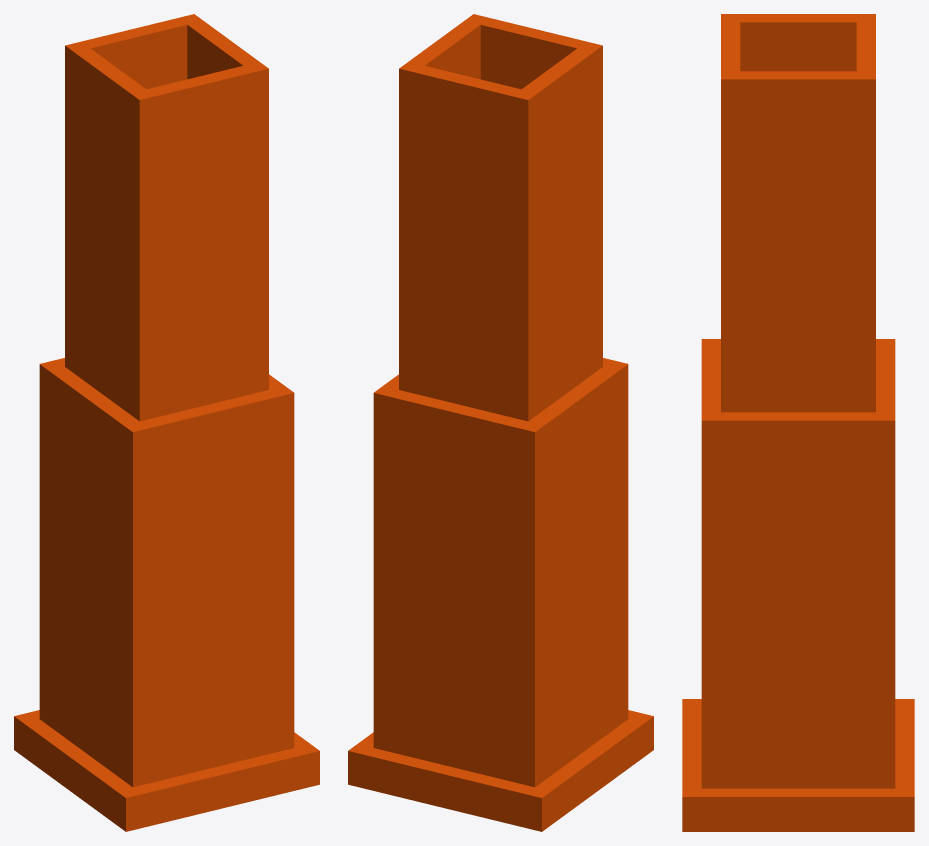
The model's file is flare_gun_cartridge.fbx.
3 views of the same model, side by side, from view 1: azimuth 30°, elevation 25°; view 2: azimuth 150°, elevation 25°; view 3: azimuth 270°, elevation 25° (orthographic). The views are drawn at different scales.
Parts seen in each view (by area): view 1: flare_gun_cartridge_base; view 2: flare_gun_cartridge_base; view 3: flare_gun_cartridge_base.
Part boxes in pixels (x1,y1,x2,y2): flare_gun_cartridge_base: (14,14,319,831); flare_gun_cartridge_base: (348,14,653,831); flare_gun_cartridge_base: (682,14,914,831).
Bounding box in the file's own units: 3.6 × 12.6 × 3.6.
